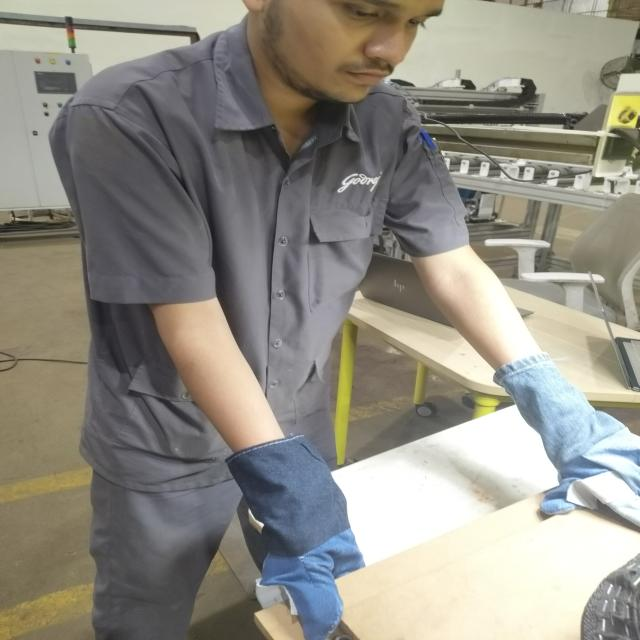Gloves-Detection: (205, 432, 360, 620), (503, 355, 633, 522)
